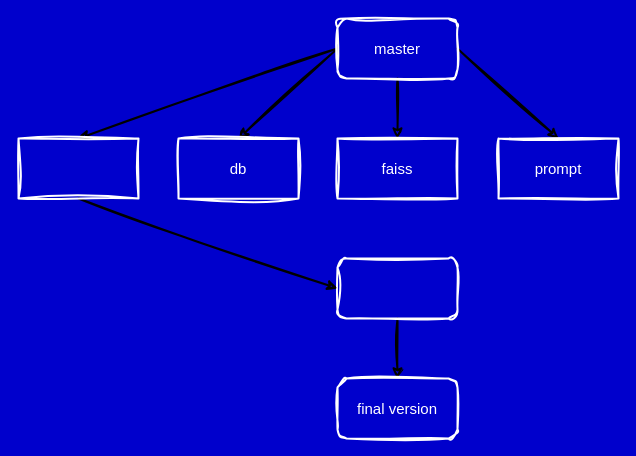
The diagram is 636 pixels wide and 456 high, and some of its shapes have lost their labels. The shapes that lost their labels are listed below. From the top down, each one's box as (x1, y1, x2, y2) in pixels, then its label:
(17, 137, 139, 199): del db
(336, 257, 458, 319): new stucture
